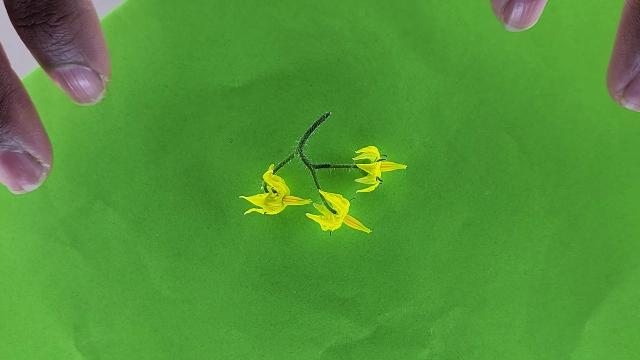Anthesis: (237, 164, 312, 216), (306, 187, 372, 236), (349, 145, 407, 195)
